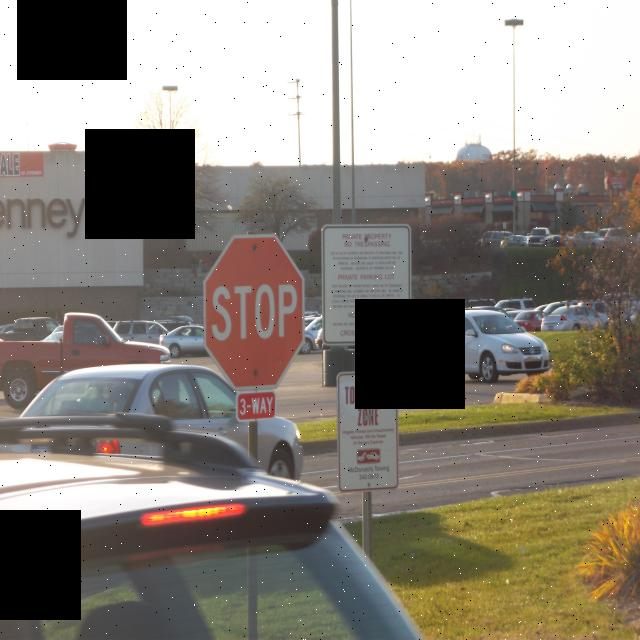regulatory: (338, 371, 398, 491)
stop: (203, 234, 305, 390)
